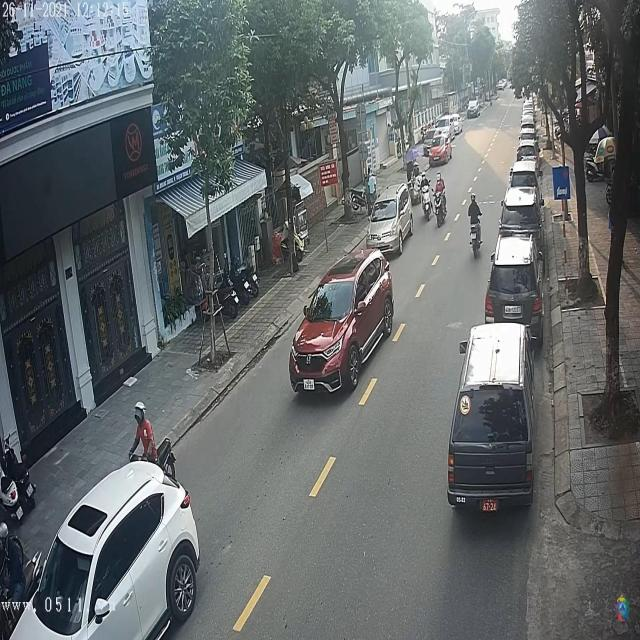car: (449, 323, 535, 511), (287, 248, 395, 394), (486, 237, 543, 330), (366, 193, 414, 260), (502, 184, 540, 227), (428, 143, 453, 168), (516, 144, 539, 164), (518, 124, 537, 143), (467, 98, 482, 117)
motorcycle: (467, 193, 483, 256), (434, 191, 449, 230), (421, 184, 435, 221)
